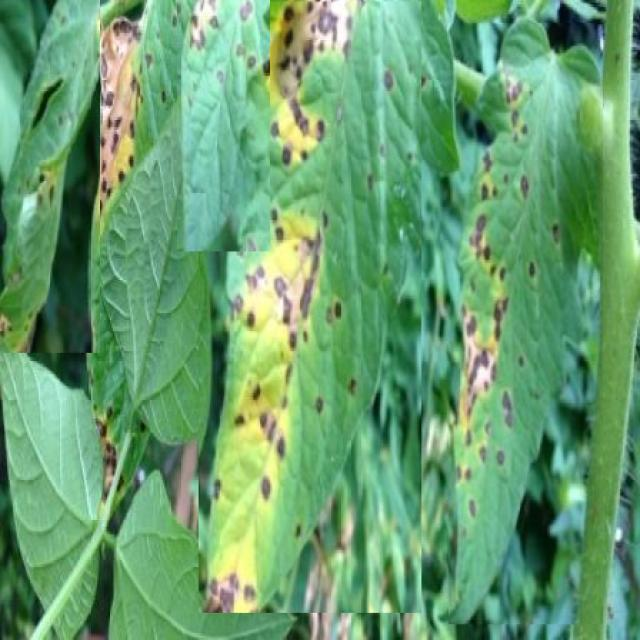Septoria: (199, 2, 422, 614), (449, 23, 602, 624), (0, 0, 100, 353), (177, 0, 270, 251)
